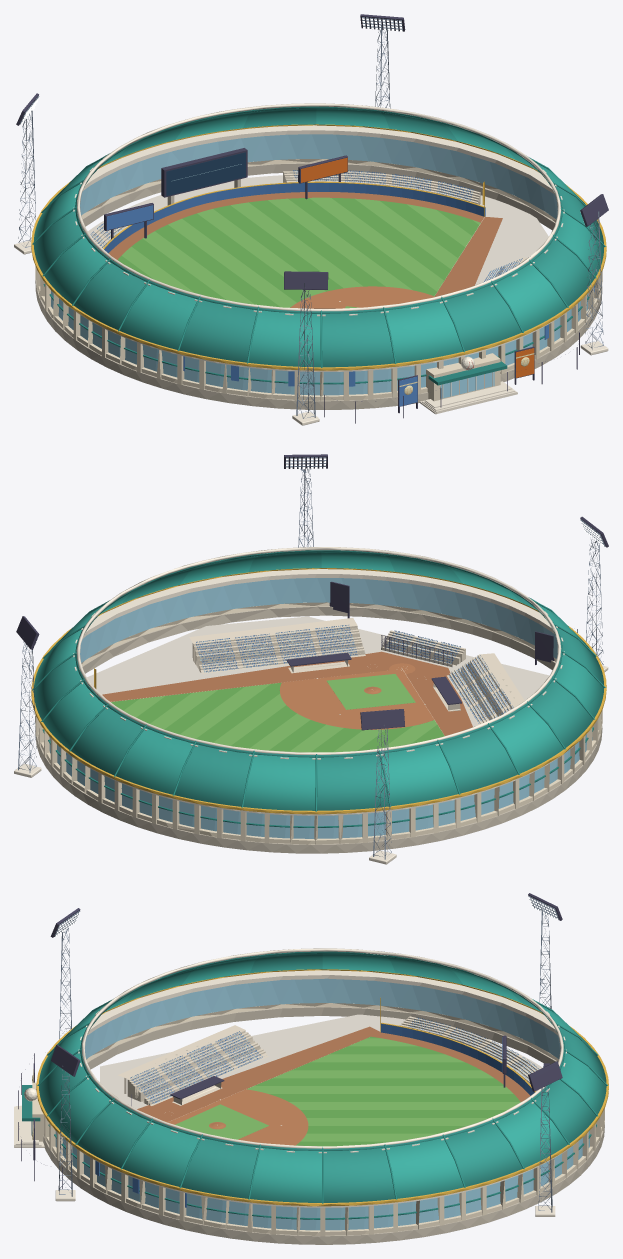
The model's file is ballpark.glb.
The picture shows the model from 3 angles, top to bottom: view 1: azimuth 30°, elevation 25°; view 2: azimuth 150°, elevation 25°; view 3: azimuth 270°, elevation 25°; orthographic projection. The views are drawn at different scales.
Parts seen in each view (by area): view 1: J_Frosted crown skylight+Roof blue+Roof blue panels, J_Powder-blue glazing, J_Mown turf B, J_Mown turf A, J_Civic limestone trim, J_Facade cream, J_Sandstone, J_Warning track, J_Enamel blue, J_Cream paving, J_Civic cornice gold, J_Tower powder-coated steel (+12 smaller); view 2: J_Frosted crown skylight+Roof blue+Roof blue panels, J_Powder-blue glazing, J_Ivory precast, J_Sandstone, J_Facade cream, J_Civic limestone trim, J_Mown turf B, J_Cream paving, J_Warning track, J_Mown turf A, J_Infield clay, J_Civic cornice gold (+9 smaller); view 3: J_Frosted crown skylight+Roof blue+Roof blue panels, J_Powder-blue glazing, J_Mown turf B, J_Facade cream, J_Civic limestone trim, J_Sandstone, J_Mown turf A, J_Ivory precast, J_Warning track, J_Cream paving, J_Enamel blue, J_Civic cornice gold (+11 smaller).
Part boxes in pixels (box(x1,y1,x2,y2)): J_Frosted crown skylight+Roof blue+Roof blue panels: box(33, 106, 604, 367); J_Powder-blue glazing: box(51, 134, 588, 398); J_Mown turf B: box(122, 197, 480, 308); J_Mown turf A: box(117, 198, 479, 307); J_Civic limestone trim: box(57, 103, 576, 414); J_Facade cream: box(35, 159, 602, 401); J_Sandstone: box(35, 162, 602, 409); J_Warning track: box(108, 192, 502, 297); J_Enamel blue: box(43, 106, 595, 385); J_Cream paving: box(88, 175, 548, 285); J_Civic cornice gold: box(31, 124, 606, 370); J_Tower powder-coated steel: box(18, 17, 603, 418); J_Frosted crown skylight+Roof blue+Roof blue panels: box(33, 550, 603, 810); J_Powder-blue glazing: box(49, 578, 592, 838); J_Ivory precast: box(189, 618, 524, 724); J_Sandstone: box(35, 606, 602, 853); J_Facade cream: box(35, 602, 602, 844); J_Civic limestone trim: box(64, 547, 576, 815); J_Mown turf B: box(111, 674, 444, 752); J_Cream paving: box(87, 616, 549, 726); J_Warning track: box(102, 651, 472, 735); J_Mown turf A: box(112, 682, 444, 752); J_Infield clay: box(279, 663, 434, 729); J_Civic cornice gold: box(31, 568, 606, 814); J_Frosted crown skylight+Roof blue+Roof blue panels: box(39, 951, 606, 1202); J_Powder-blue glazing: box(31, 978, 589, 1230); J_Mown turf B: box(175, 1038, 520, 1141); J_Facade cream: box(32, 1003, 604, 1236); J_Civic limestone trim: box(14, 948, 578, 1207); J_Sandstone: box(43, 1006, 604, 1244); J_Mown turf A: box(254, 1036, 520, 1146); J_Ivory precast: box(118, 1016, 539, 1105); J_Warning track: box(137, 1026, 530, 1121); J_Cream paving: box(100, 1014, 542, 1108); J_Enamel blue: box(22, 951, 596, 1219); J_Civic cornice gold: box(36, 969, 608, 1206).
Size of the model in its own units: 6.59 by 1.87 by 6.99.
